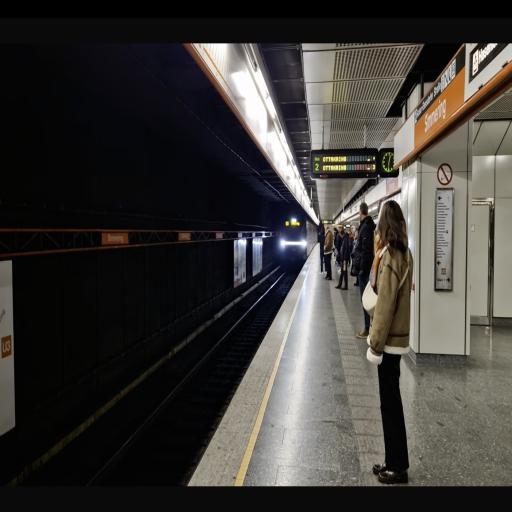X-Wagen: (279, 214, 317, 262)
